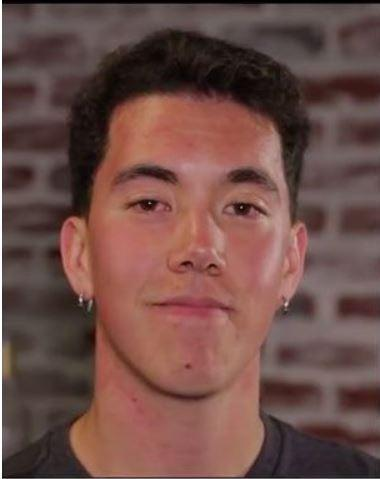Drunk: (108, 101, 284, 387)
